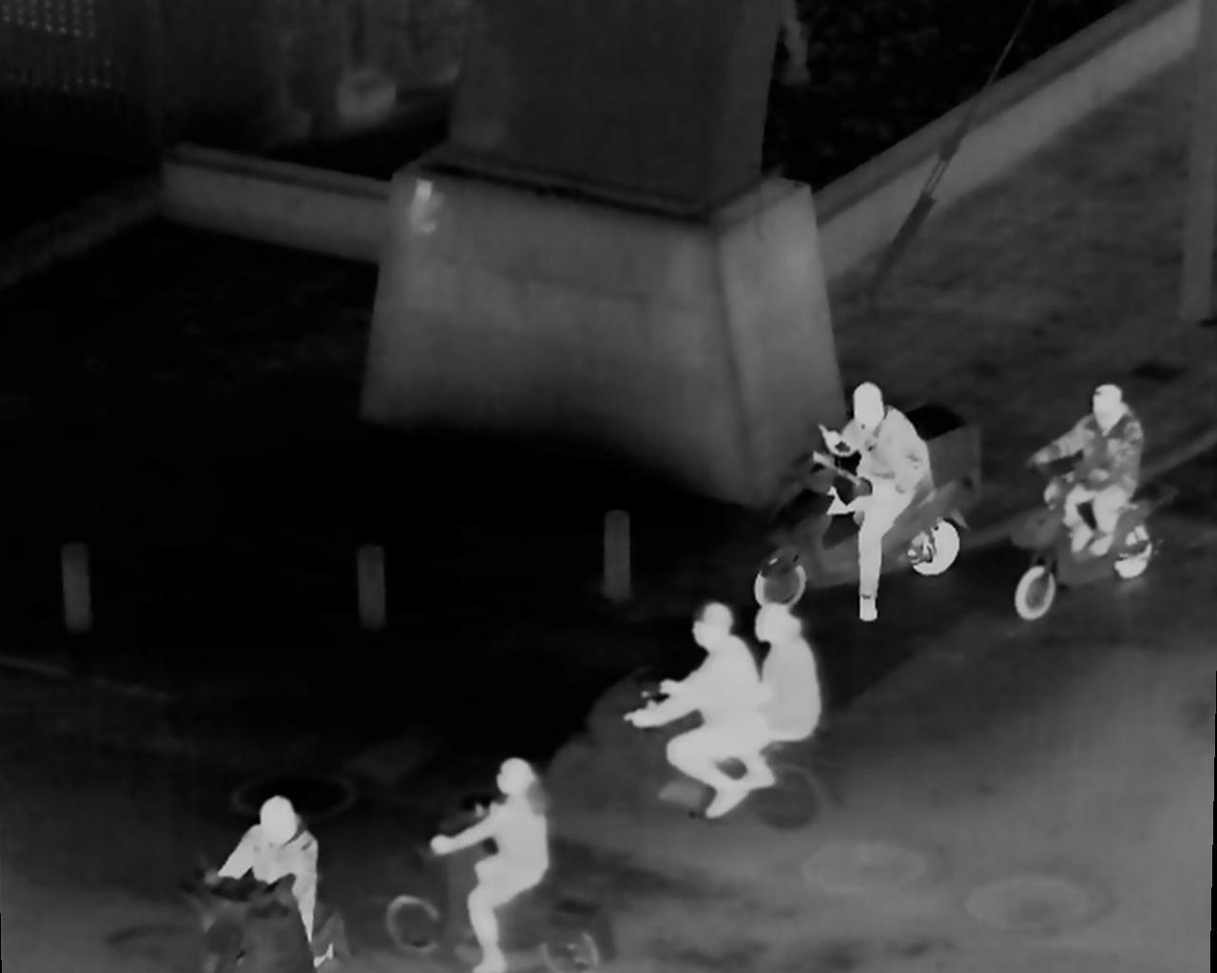person: (811, 379, 936, 615), (635, 602, 757, 819), (440, 764, 558, 967), (707, 607, 821, 815), (1049, 376, 1151, 585), (220, 794, 334, 953)
